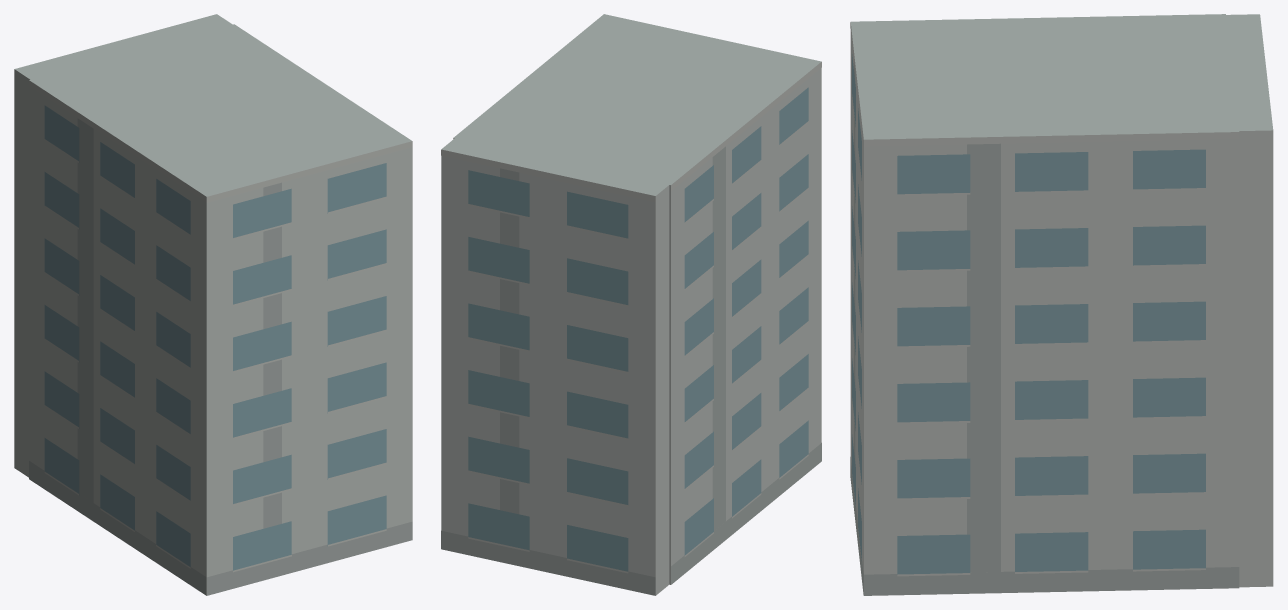
The model's file is survey-upis-32842064.glb.
The picture shows the model from 3 angles, left to right: view 1: azimuth 30°, elevation 25°; view 2: azimuth 150°, elevation 25°; view 3: azimuth 270°, elevation 25°; orthographic projection. The views are drawn at different scales.
Visible parts, largest first — view 1: survey-upis-32842064.tmp; view 2: survey-upis-32842064.tmp; view 3: survey-upis-32842064.tmp.
Part boxes in pixels (x1=…): survey-upis-32842064.tmp: x1=14, y1=14, x2=412, y2=595; survey-upis-32842064.tmp: x1=441, y1=14, x2=821, y2=595; survey-upis-32842064.tmp: x1=850, y1=14, x2=1273, y2=595.
Bounding box in the file's own units: 9.46 × 16 × 13.45.
